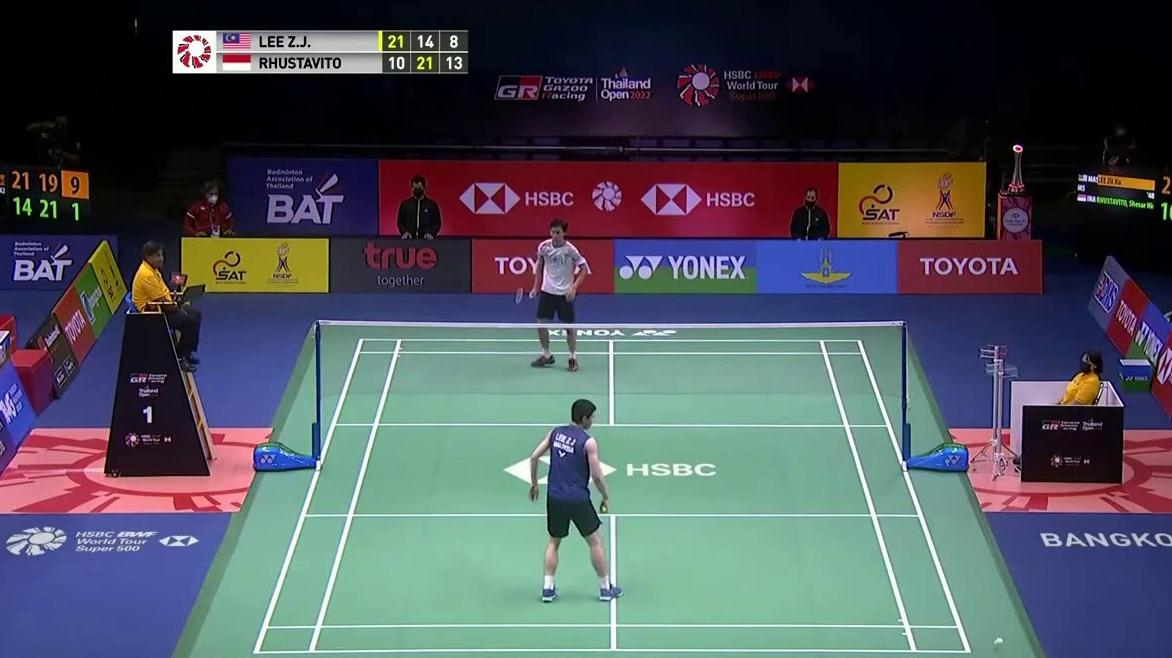racket: (514, 287, 537, 304), (598, 503, 610, 519)
shuttle: (992, 635, 1004, 646)
